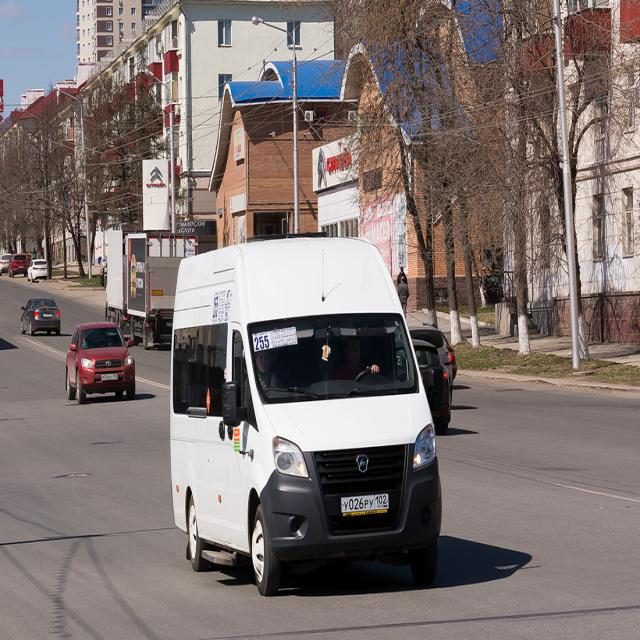number-of-bus: (253, 334, 272, 352)
